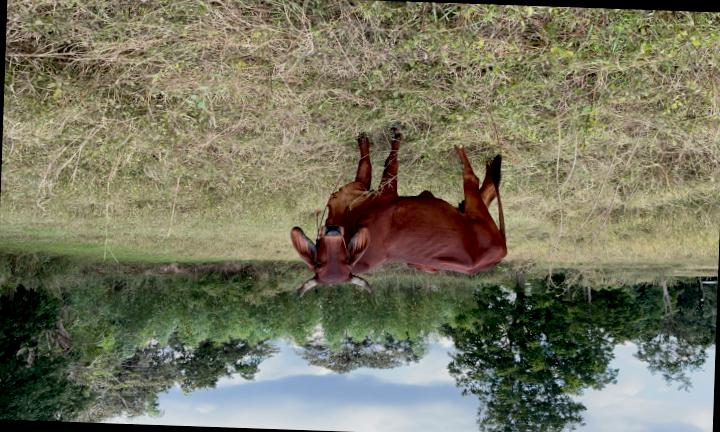Brahman: (291, 129, 507, 296)
